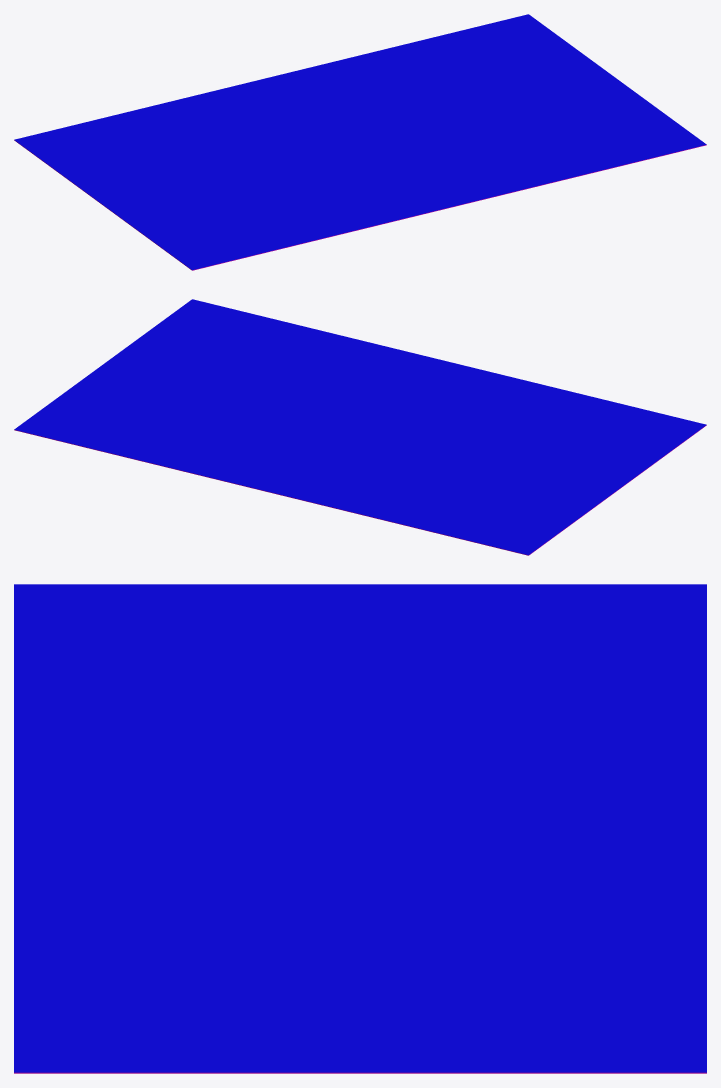
The model's file is static page.fbx.
3 views of the same model, one above another, from view 1: azimuth 30°, elevation 25°; view 2: azimuth 150°, elevation 25°; view 3: azimuth 270°, elevation 25° (orthographic). The views are drawn at different scales.
Visible parts, largest first — view 1: staticPage; view 2: staticPage; view 3: staticPage.
Part boxes in pixels (bbox=[...]): staticPage: bbox=[14, 14, 706, 270]; staticPage: bbox=[14, 299, 706, 555]; staticPage: bbox=[14, 584, 706, 1073].
Bounding box in the file's own units: 200 × 0.2 × 120.
